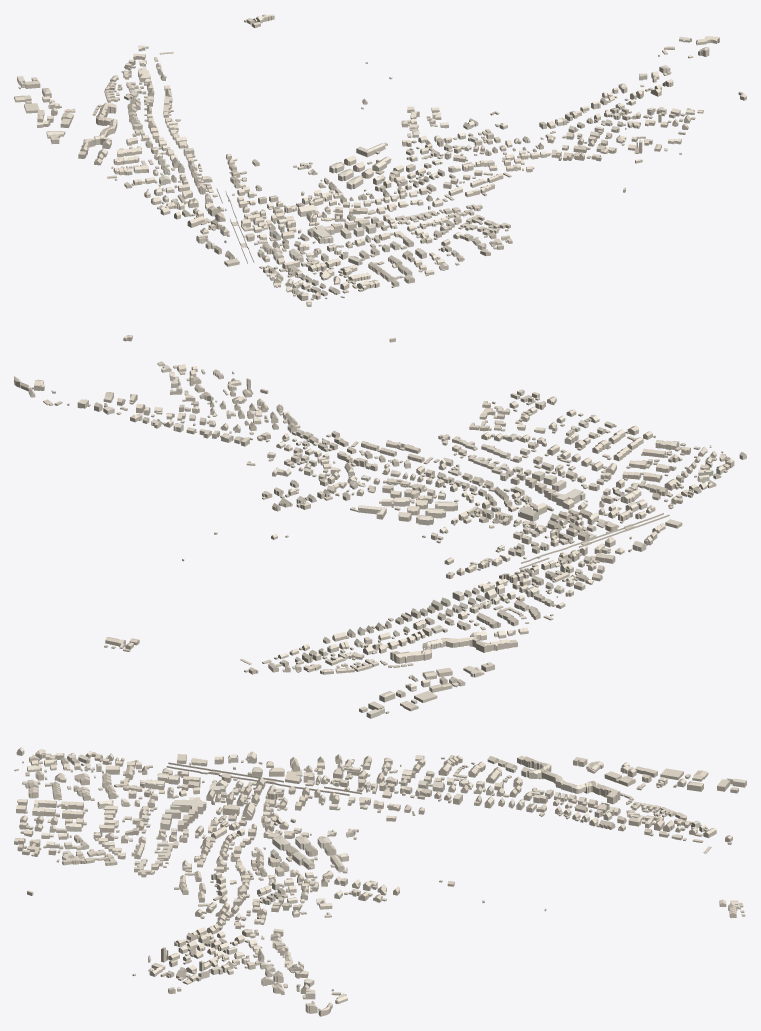
3 views of the same model, one above another, from view 1: azimuth 30°, elevation 25°; view 2: azimuth 150°, elevation 25°; view 3: azimuth 270°, elevation 25° (orthographic). The views are drawn at different scales.
Size of the model in its own units: 1233 by 117 by 1232.
